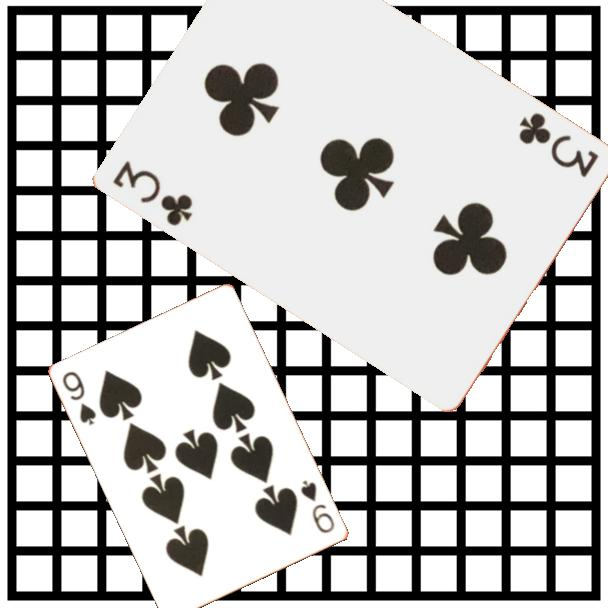c03: (108, 157, 195, 229), (514, 109, 601, 181)
s09: (59, 368, 100, 428), (298, 476, 338, 536)
